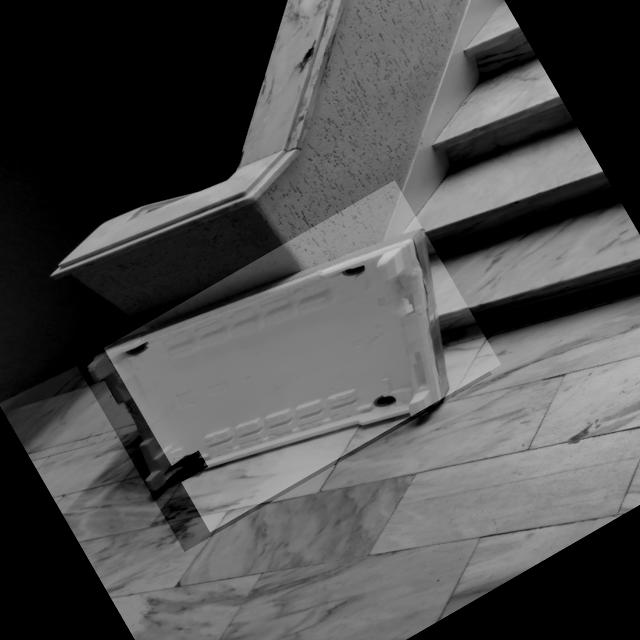Other Carton: (106, 229, 449, 398), (175, 457, 205, 479)
Styrofoam piece: (87, 240, 443, 493)
